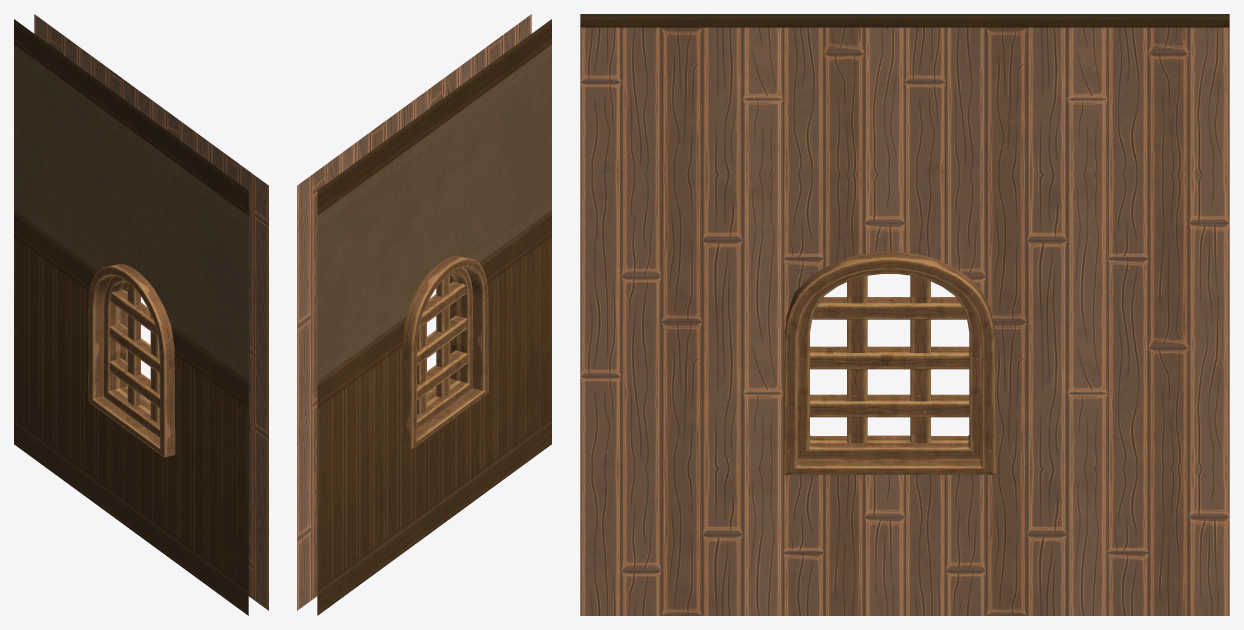
The model's file is SM_Window_Wall_02.gltf.
3 renders of one model, left to right at view 1: azimuth 30°, elevation 25°; view 2: azimuth 150°, elevation 25°; view 3: azimuth 270°, elevation 25°, orthographic. The views are drawn at different scales.
Visible parts, largest first — view 1: SM_Window_Wall_02; view 2: SM_Window_Wall_02; view 3: SM_Window_Wall_02.
Boxes of the visible parts, x1=… form: SM_Window_Wall_02: x1=14, y1=14, x2=268, y2=615; SM_Window_Wall_02: x1=297, y1=14, x2=551, y2=615; SM_Window_Wall_02: x1=580, y1=14, x2=1229, y2=615.
Size of what is drawn, in the model's own units: 0.4084 by 4 by 4.
3 materials, 3 textured.
